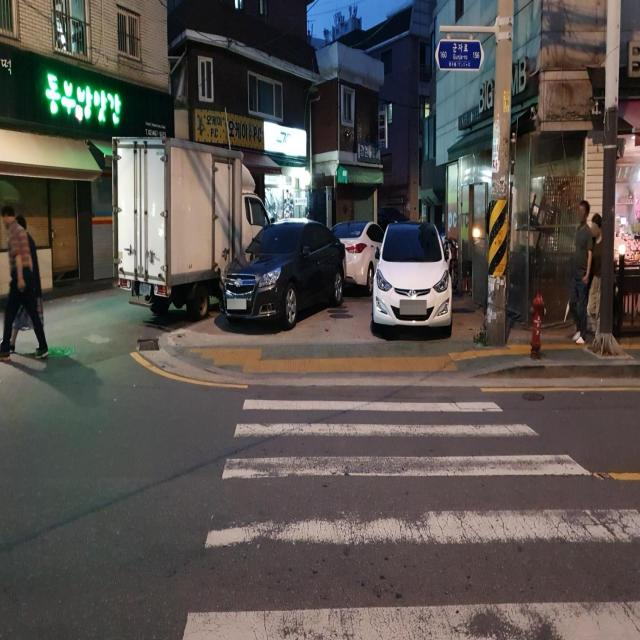횡단보도: (180, 394, 640, 640)
